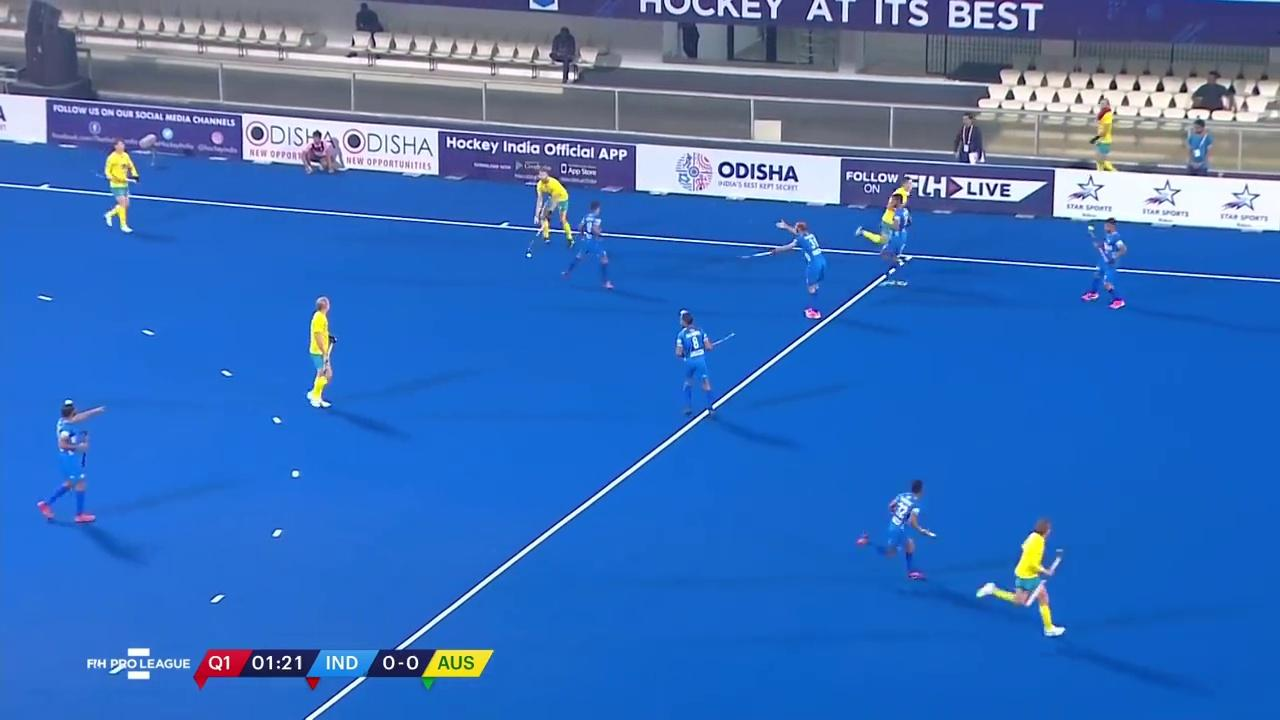ball: (520, 246, 537, 263)
